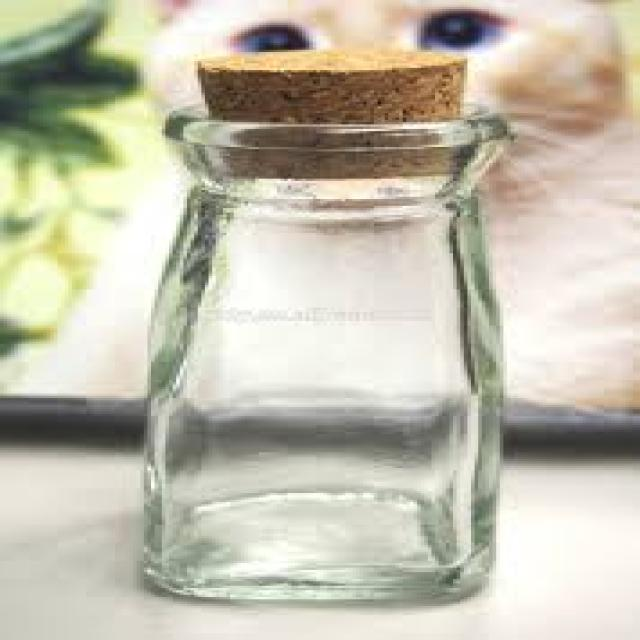glass: (137, 104, 493, 604)
